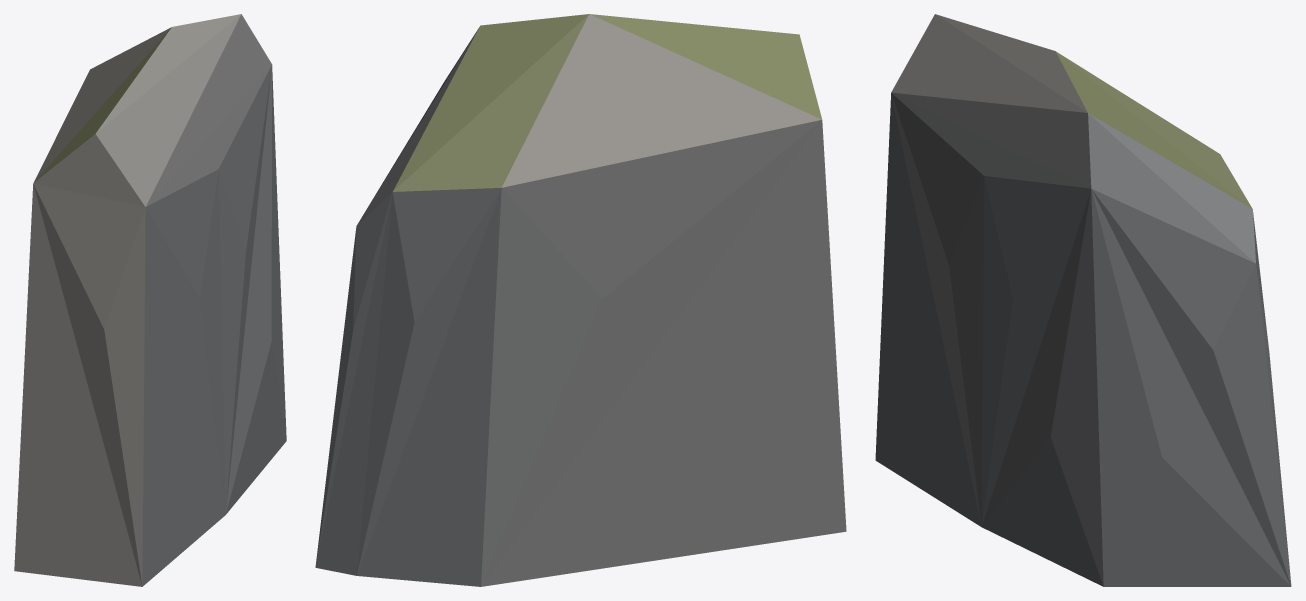
File: cliff_crown.glb
3 renders of one model, left to right at view 1: azimuth 30°, elevation 25°; view 2: azimuth 150°, elevation 25°; view 3: azimuth 270°, elevation 25°, orthographic. The views are drawn at different scales.
Parts seen in each view (by area): view 1: cliff_crown; view 2: cliff_crown; view 3: cliff_crown.
Boxes of the visible parts, x1,y1,x2,y2 form: cliff_crown: (14, 14, 286, 586); cliff_crown: (315, 14, 846, 586); cliff_crown: (875, 14, 1291, 586).
Size of the model in its own units: 71.47 by 94 by 75.75.
